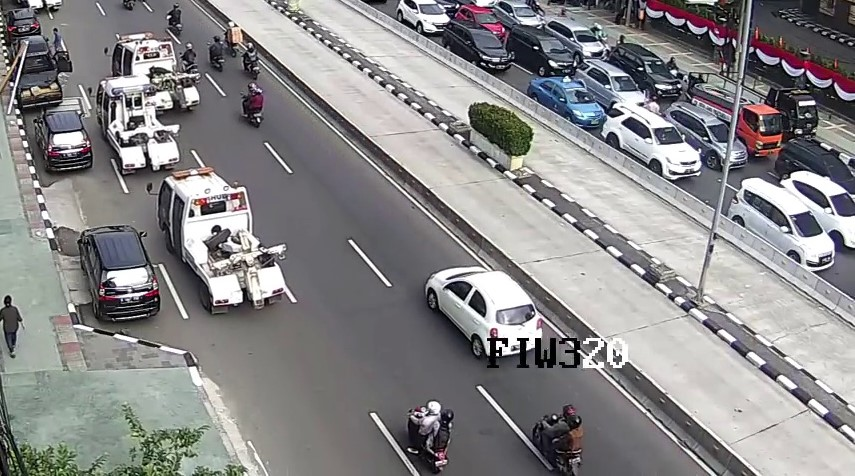car: (159, 167, 284, 314), (427, 265, 542, 358), (727, 179, 835, 272), (712, 66, 817, 142), (600, 101, 700, 179), (97, 79, 177, 176), (690, 78, 780, 161), (81, 228, 159, 323), (777, 170, 855, 252), (112, 40, 198, 110), (662, 99, 745, 169), (775, 136, 853, 210), (604, 43, 681, 102), (574, 58, 646, 118), (7, 37, 63, 110), (528, 77, 605, 130), (507, 23, 576, 80), (37, 109, 93, 177), (442, 21, 513, 74), (545, 18, 605, 66), (454, 6, 507, 45), (396, 1, 451, 38), (494, 2, 543, 37), (3, 9, 39, 41)
motorbike: (531, 408, 583, 476), (405, 404, 451, 472), (243, 83, 263, 127), (182, 43, 199, 81), (243, 42, 259, 78), (225, 21, 241, 55), (210, 36, 224, 72), (168, 5, 184, 36)
